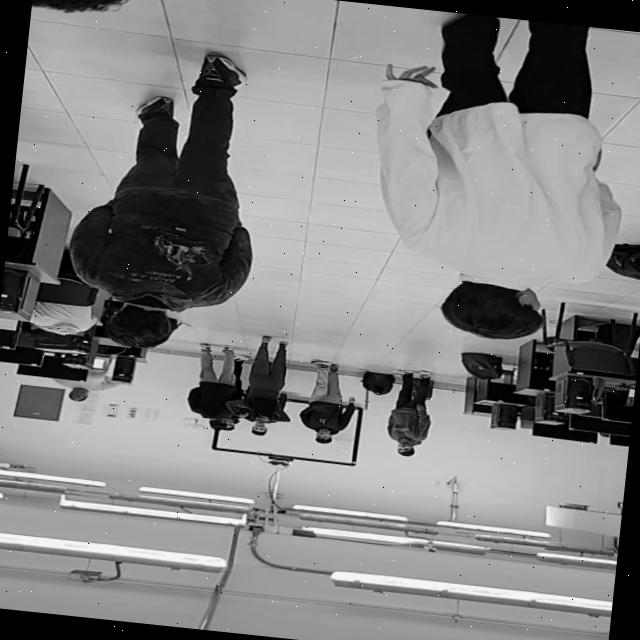Persona: (365, 6, 626, 352), (90, 50, 256, 356), (239, 336, 304, 431), (187, 342, 240, 432), (386, 372, 439, 458), (295, 362, 348, 448), (59, 362, 122, 405)
